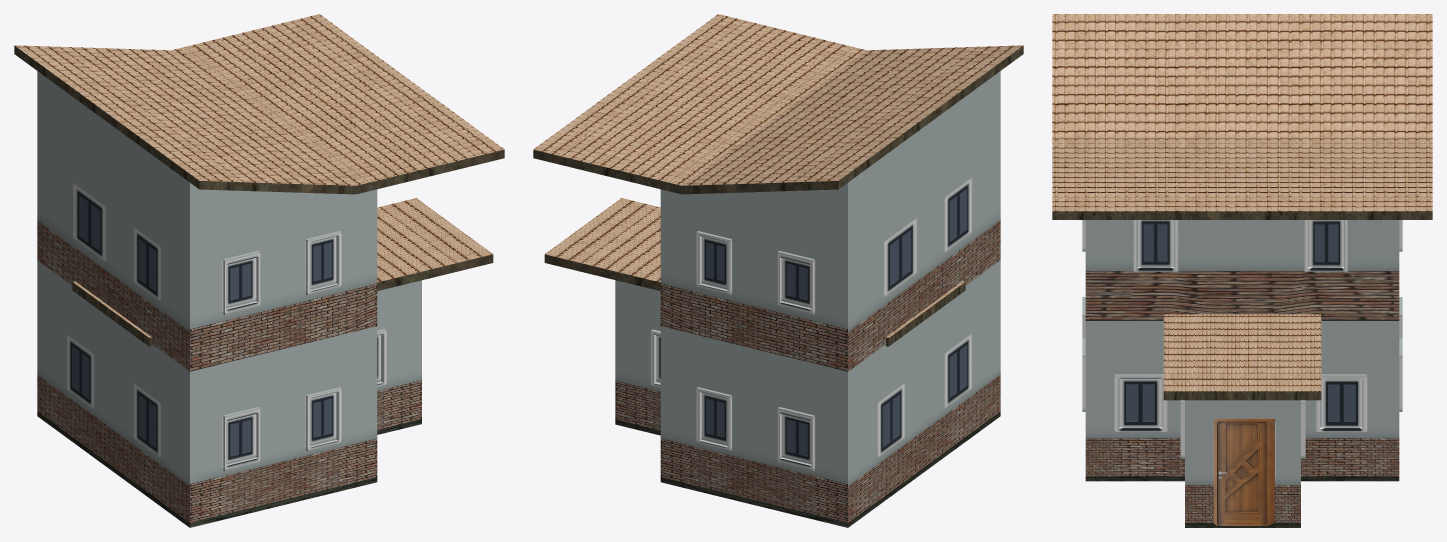
File: BAT1_SETA_HOUSE1.fbx
3 renders of one model, left to right at view 1: azimuth 30°, elevation 25°; view 2: azimuth 150°, elevation 25°; view 3: azimuth 270°, elevation 25°, orthographic. The views are drawn at different scales.
Visible parts, largest first — view 1: _01; view 2: _01; view 3: _01.
Boxes of the visible parts, box(x1,y1,x2,y2) form: _01: box(14, 14, 504, 527); _01: box(533, 14, 1023, 527); _01: box(1052, 14, 1432, 527).
Size of the model in its own units: 43.86 by 43.44 by 40.43.
1 material, 1 textured.
